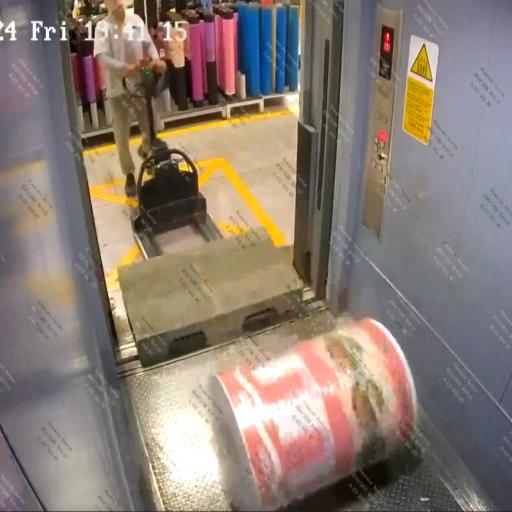rollos caidos: (89, 95, 457, 512)
